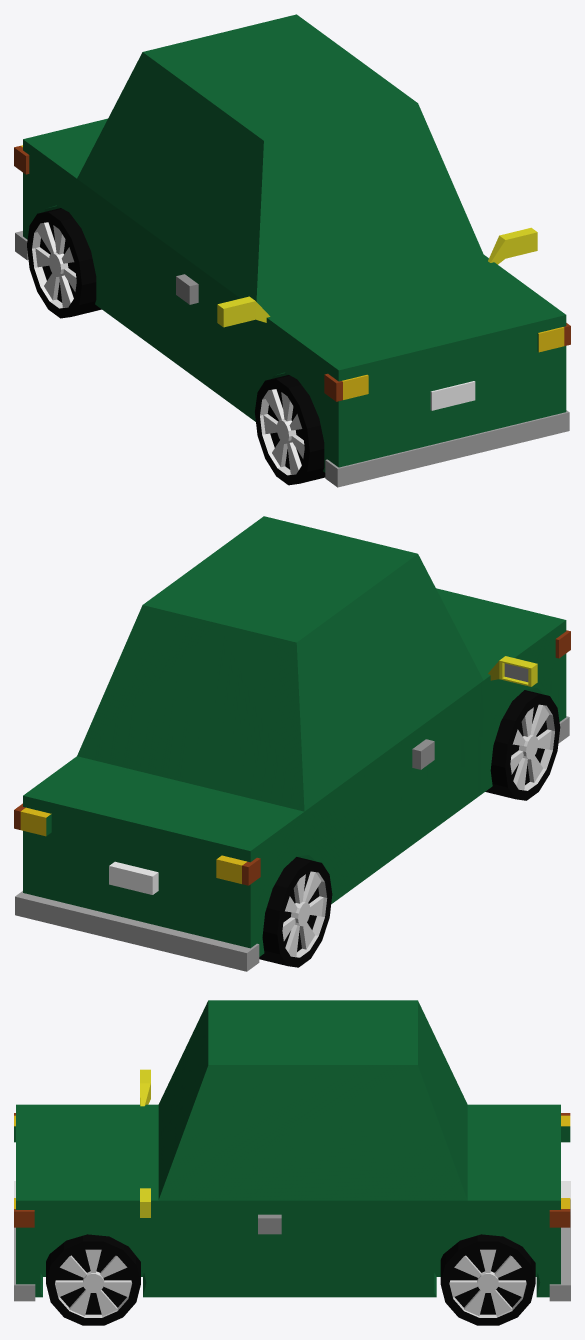
Rendered from low poly car.fbx.
3 views of the same model, one above another, from view 1: azimuth 30°, elevation 25°; view 2: azimuth 150°, elevation 25°; view 3: azimuth 270°, elevation 25° (orthographic). The views are drawn at different scales.
Parts seen in each view (by area): view 1: Car Body, Tyre; view 2: Car Body, Tyre; view 3: Car Body, Tyre.
Boxes of the visible parts, left/top/right/bottom form: Car Body: left=14, top=14, right=570, bottom=487; Tyre: left=27, top=208, right=325, bottom=485; Car Body: left=14, top=516, right=570, bottom=971; Tyre: left=259, top=690, right=560, bottom=967; Car Body: left=14, top=1000, right=570, bottom=1301; Tyre: left=46, top=1234, right=535, bottom=1325.
Size of the model in its own units: 585 by 497 by 1041.
